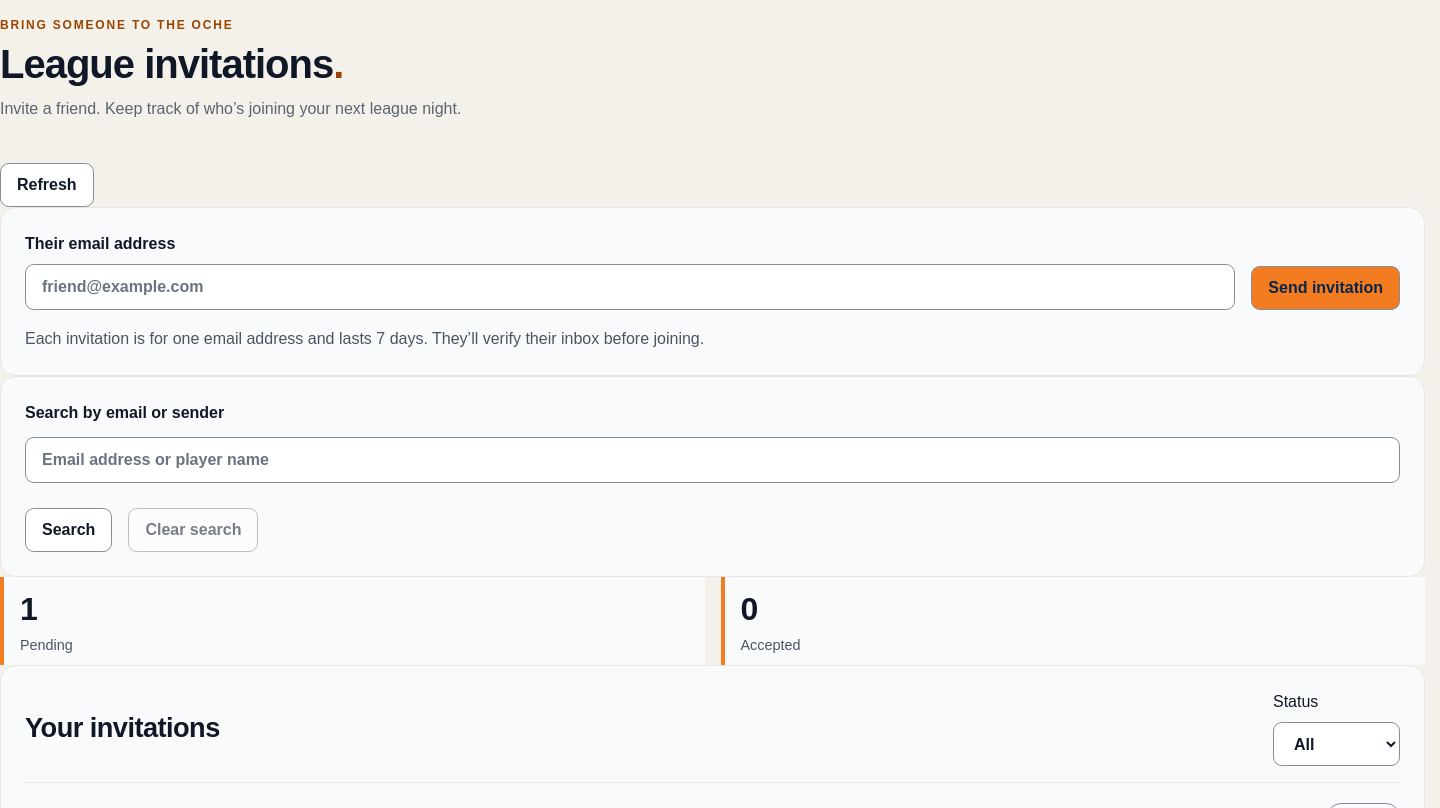
clears private history when access is lost
Click the button "Refresh".
click(47, 185)  # box [0,163,94,207]
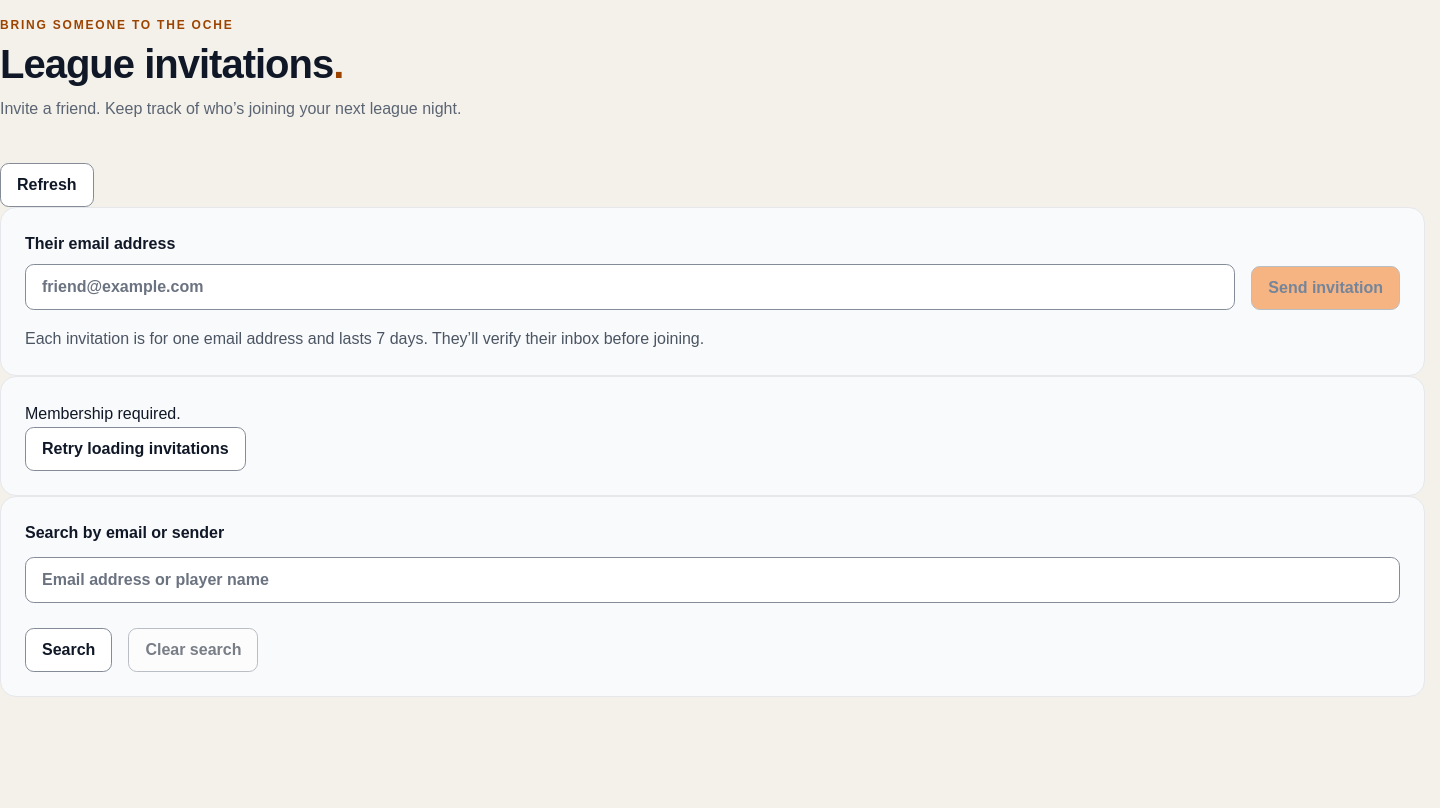
Expected: the text "private@example.test" is not shown
Now the message shows "Membership required.", box [25,405,181,422]
